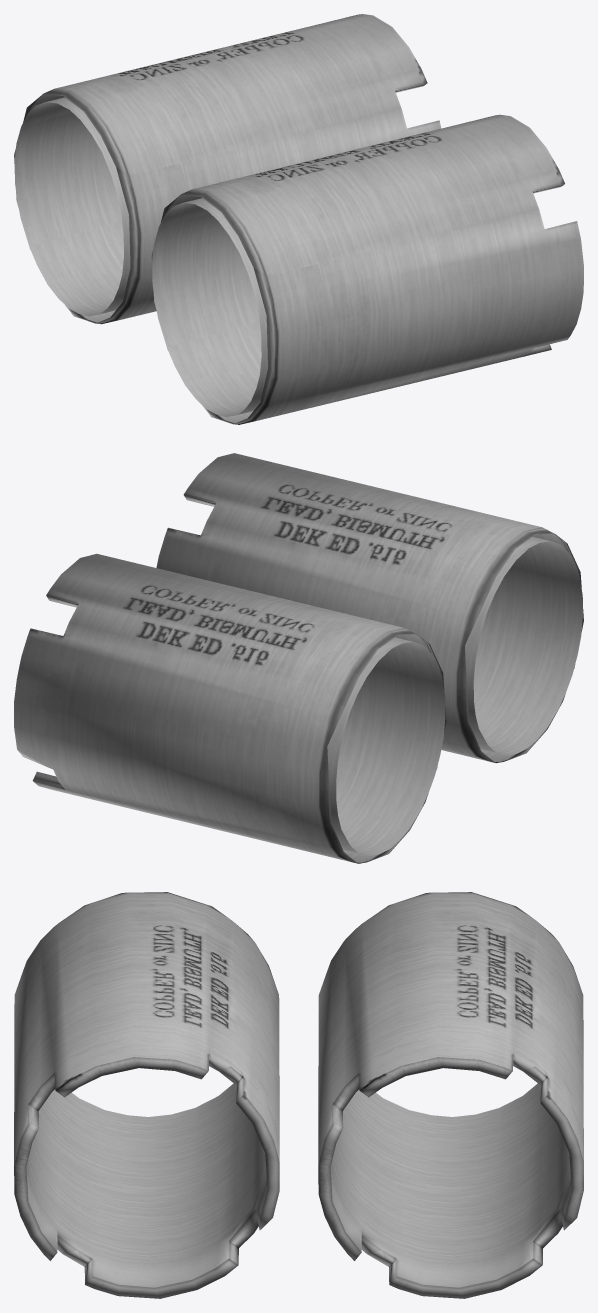
File: Choke.fbx
The picture shows the model from 3 angles, top to bottom: view 1: azimuth 30°, elevation 25°; view 2: azimuth 150°, elevation 25°; view 3: azimuth 270°, elevation 25°; orthographic projection. The views are drawn at different scales.
Visible parts, largest first — view 1: Choke; view 2: Choke; view 3: Choke.
Boxes of the visible parts, <box> form: Choke: <box>14,14,583,424</box>; Choke: <box>14,453,583,863</box>; Choke: <box>14,892,583,1298</box>.
Bounding box in the file's own units: 0.0144 × 0.00947 × 0.0202.
